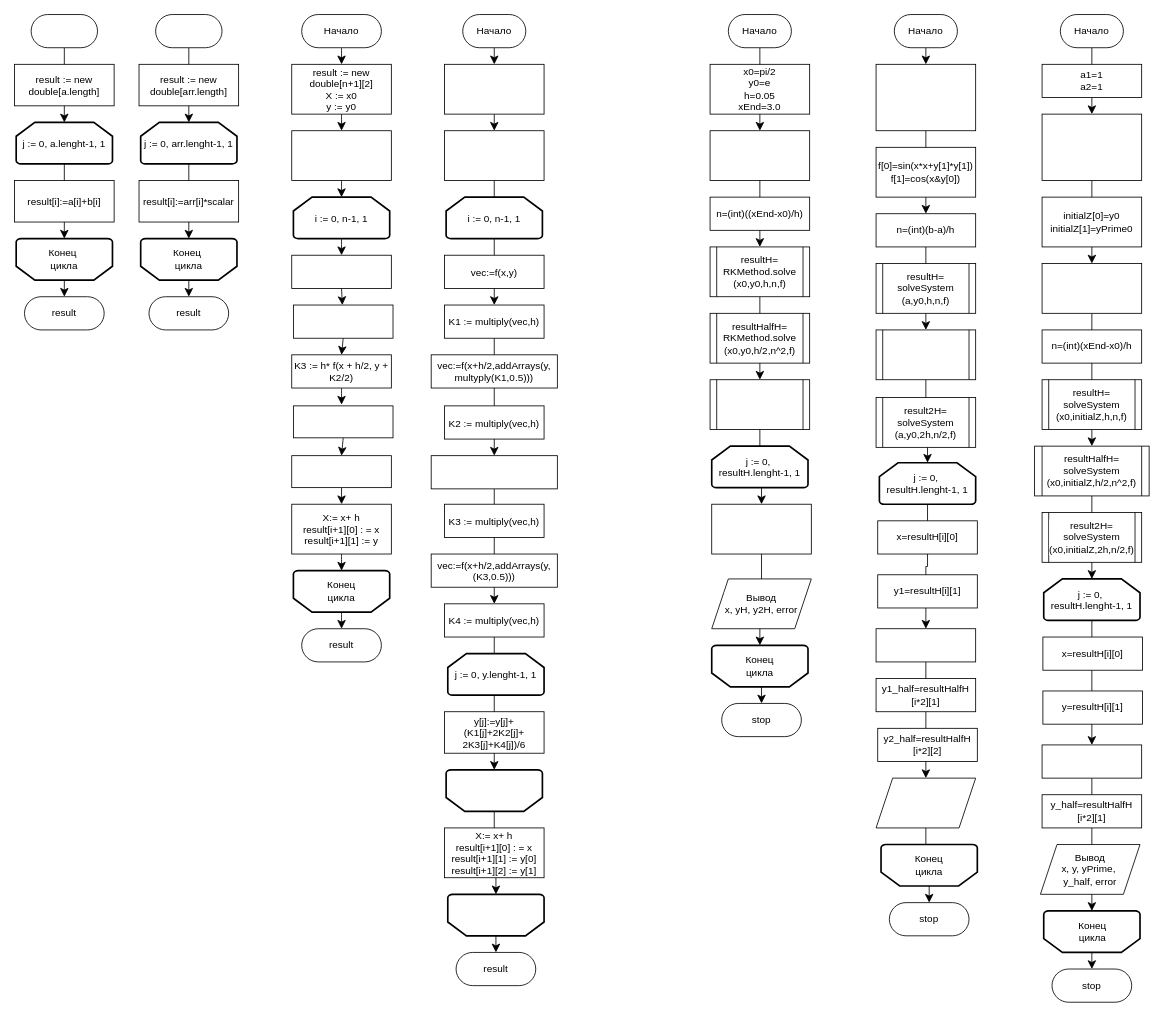
This 1164x1017 diagram has some shape labels left out. Each missing label, with the centre of its shape:
"a=0 b=4 y0[0]=0 y1[1]=0 h=0.1" belongs at pixel 925 97.
"AddArrays" belongs at pixel 64 31.
"f[0]=z[1] f[1]=-a1z[1]-a2z[0]" belongs at pixel 1091 288.
"K1 := h * f(x, y)" belongs at pixel 341 271.
"K2 := h * f(x + h/2, y + K1/2)" belongs at pixel 343 321.
"K4 := h * f(x + h, y + K3)" belongs at pixel 343 421.
"Multiply" belongs at pixel 188 31.
"result := new double[n+1] [3] X := x0 y := y0.clone" belongs at pixel 494 88.
"result2H= RKMethod.solve (x0,y0,2h,n^2,f)" belongs at pixel 759 404.
"result[0][0] := x result[0][1] := y" belongs at pixel 341 155.
"result[0][0] := x result[0][1] := y[0] result[0][2] := y[1]" belongs at pixel 494 155.
"resultHalfH= solveSystem (a,y0,h/2,n^2,f)" belongs at pixel 925 354.
"vec:=f(x+h/2,addArrays(y, multyply(K2,0.5)))" belongs at pixel 493 472.
"x0=0 y0=1 yPrime0=1 xEnd=10 h=0.05" belongs at pixel 1091 147.
"y := y + (K1 + 2K2 + 2K3 + K4)/6" belongs at pixel 341 471.
"y2=resultH[i][2]" belongs at pixel 925 645.
"yH=resultH[i][1] y2H=result2H[i//2][1] error=|yH-y2H|/15.0" belongs at pixel 761 528.
"yPrime=resultH[i][2]" belongs at pixel 1091 761.
"Вывод x, y1, y2, err1, err2" belongs at pixel 925 802.
"Конец 1 цикла" belongs at pixel 495 914.
"Конец 2 цикла" belongs at pixel 494 790.
"определение правой части f(x,y)" belongs at pixel 759 155.
